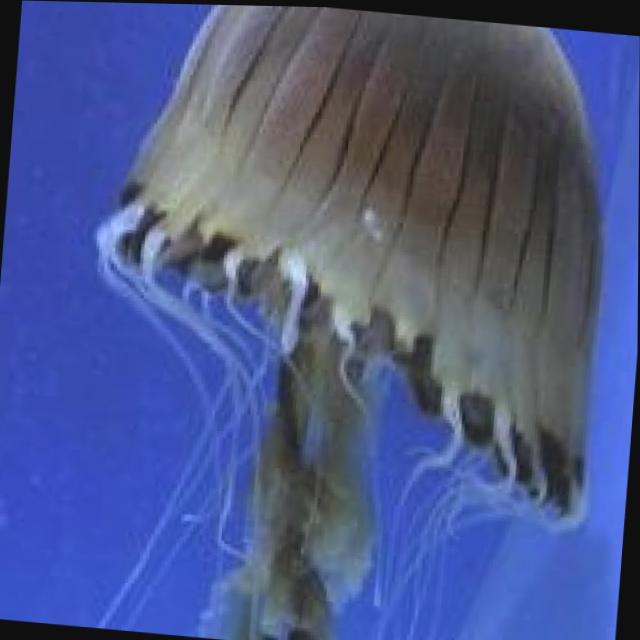Jellyfish: (60, 1, 629, 640)
